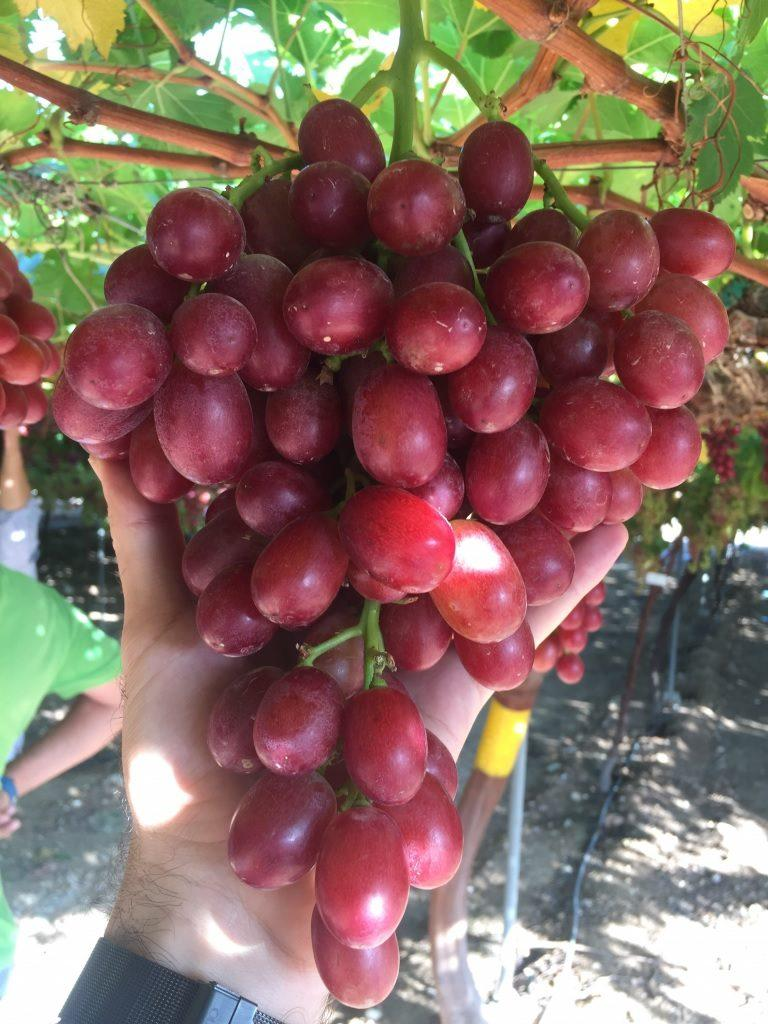grape: (27, 73, 743, 1006)
